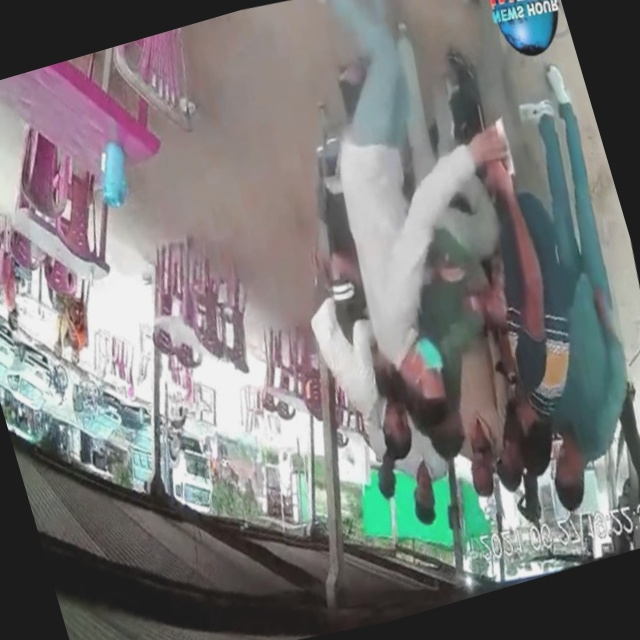gun: (461, 100, 536, 203)
